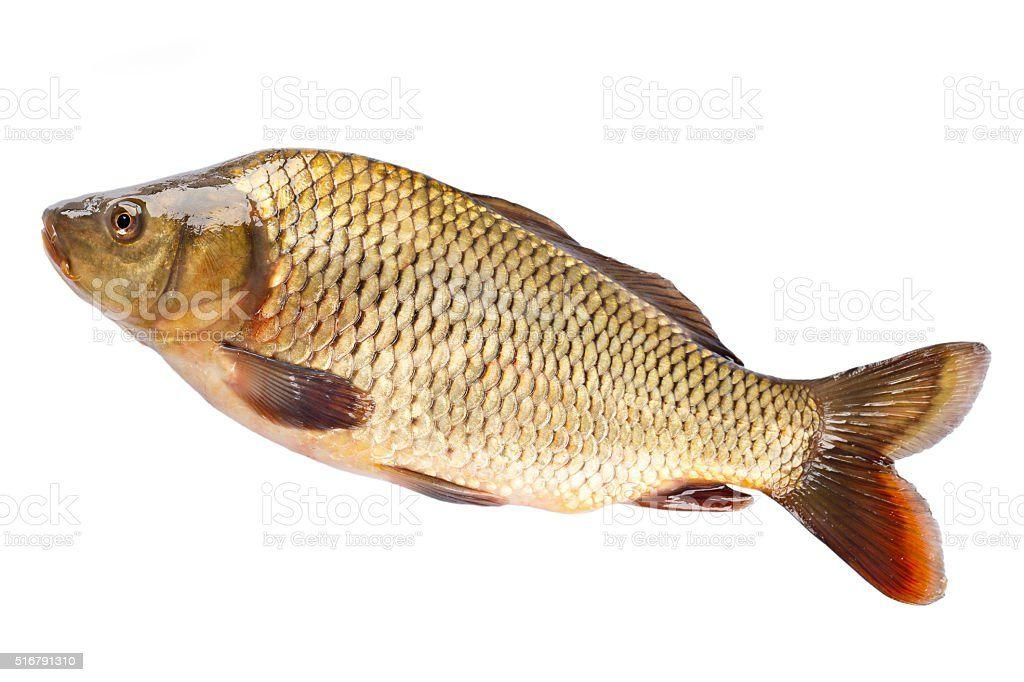Indian Carp: (42, 145, 993, 607)
